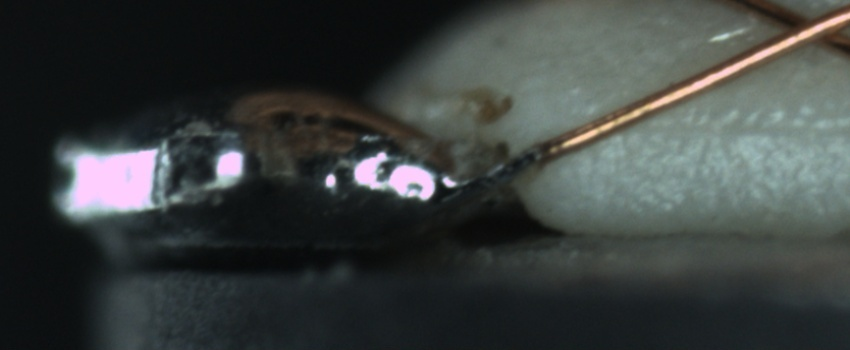CL: (747, 0, 849, 59)
DL: (619, 92, 847, 162)
